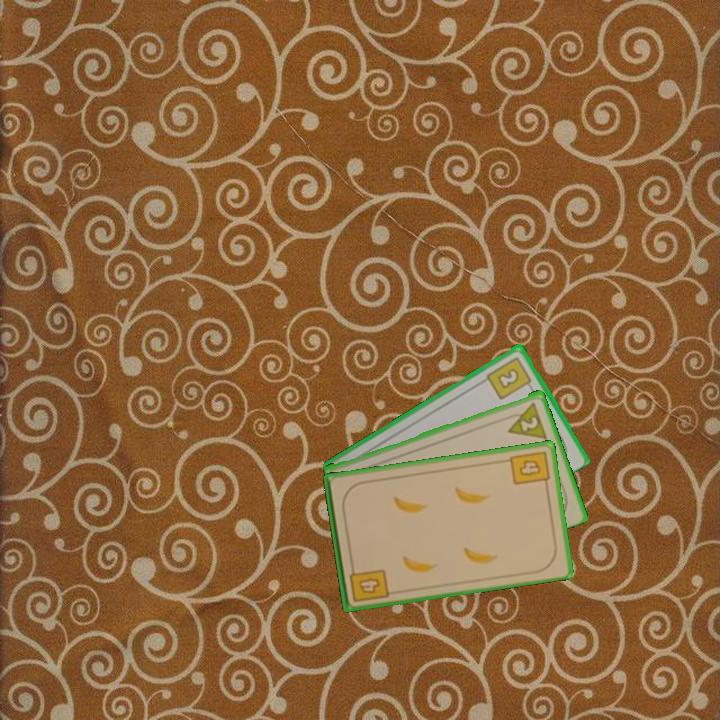2b: (483, 353, 536, 402)
2p: (517, 412, 541, 434)
4b: (506, 447, 552, 490), (346, 561, 391, 604)
